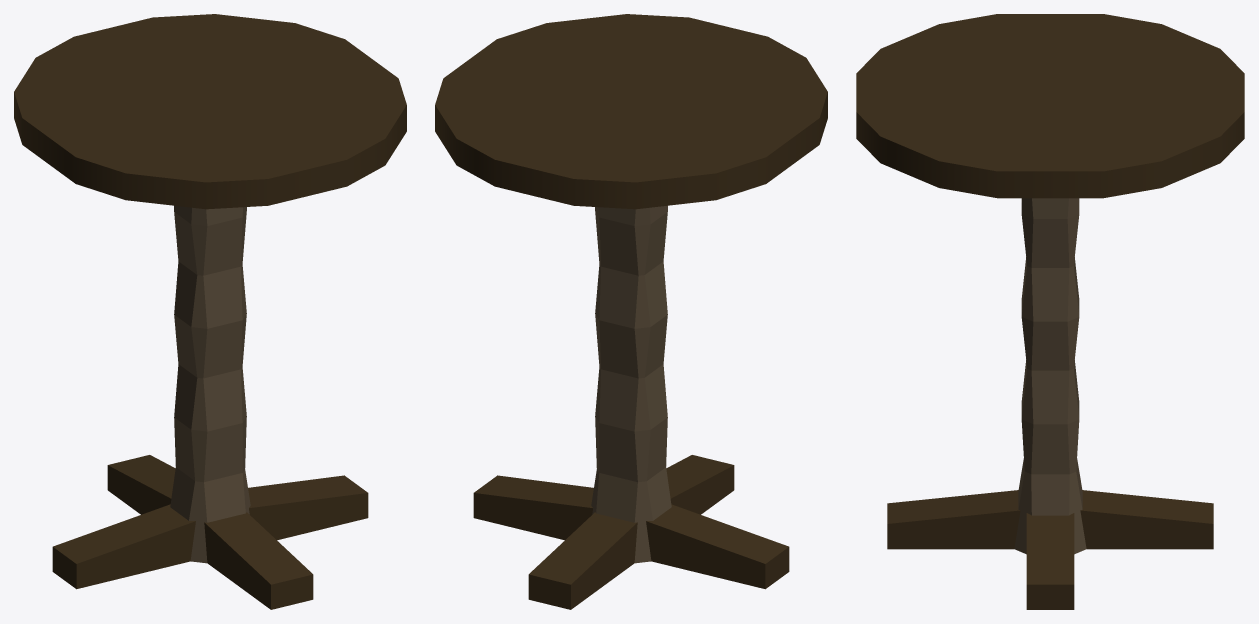
Rendered from Table_Circular.fbx.
The picture shows the model from 3 angles, left to right: view 1: azimuth 30°, elevation 25°; view 2: azimuth 150°, elevation 25°; view 3: azimuth 270°, elevation 25°; orthographic projection.
Visible parts, largest first — view 1: Table_Circular; view 2: Table_Circular; view 3: Table_Circular.
Part boxes in pixels (x1,y1,x2,y2): Table_Circular: [14, 14, 406, 609]; Table_Circular: [435, 14, 827, 609]; Table_Circular: [856, 14, 1244, 609].
Size of the model in its own units: 71.93 by 95.09 by 75.
